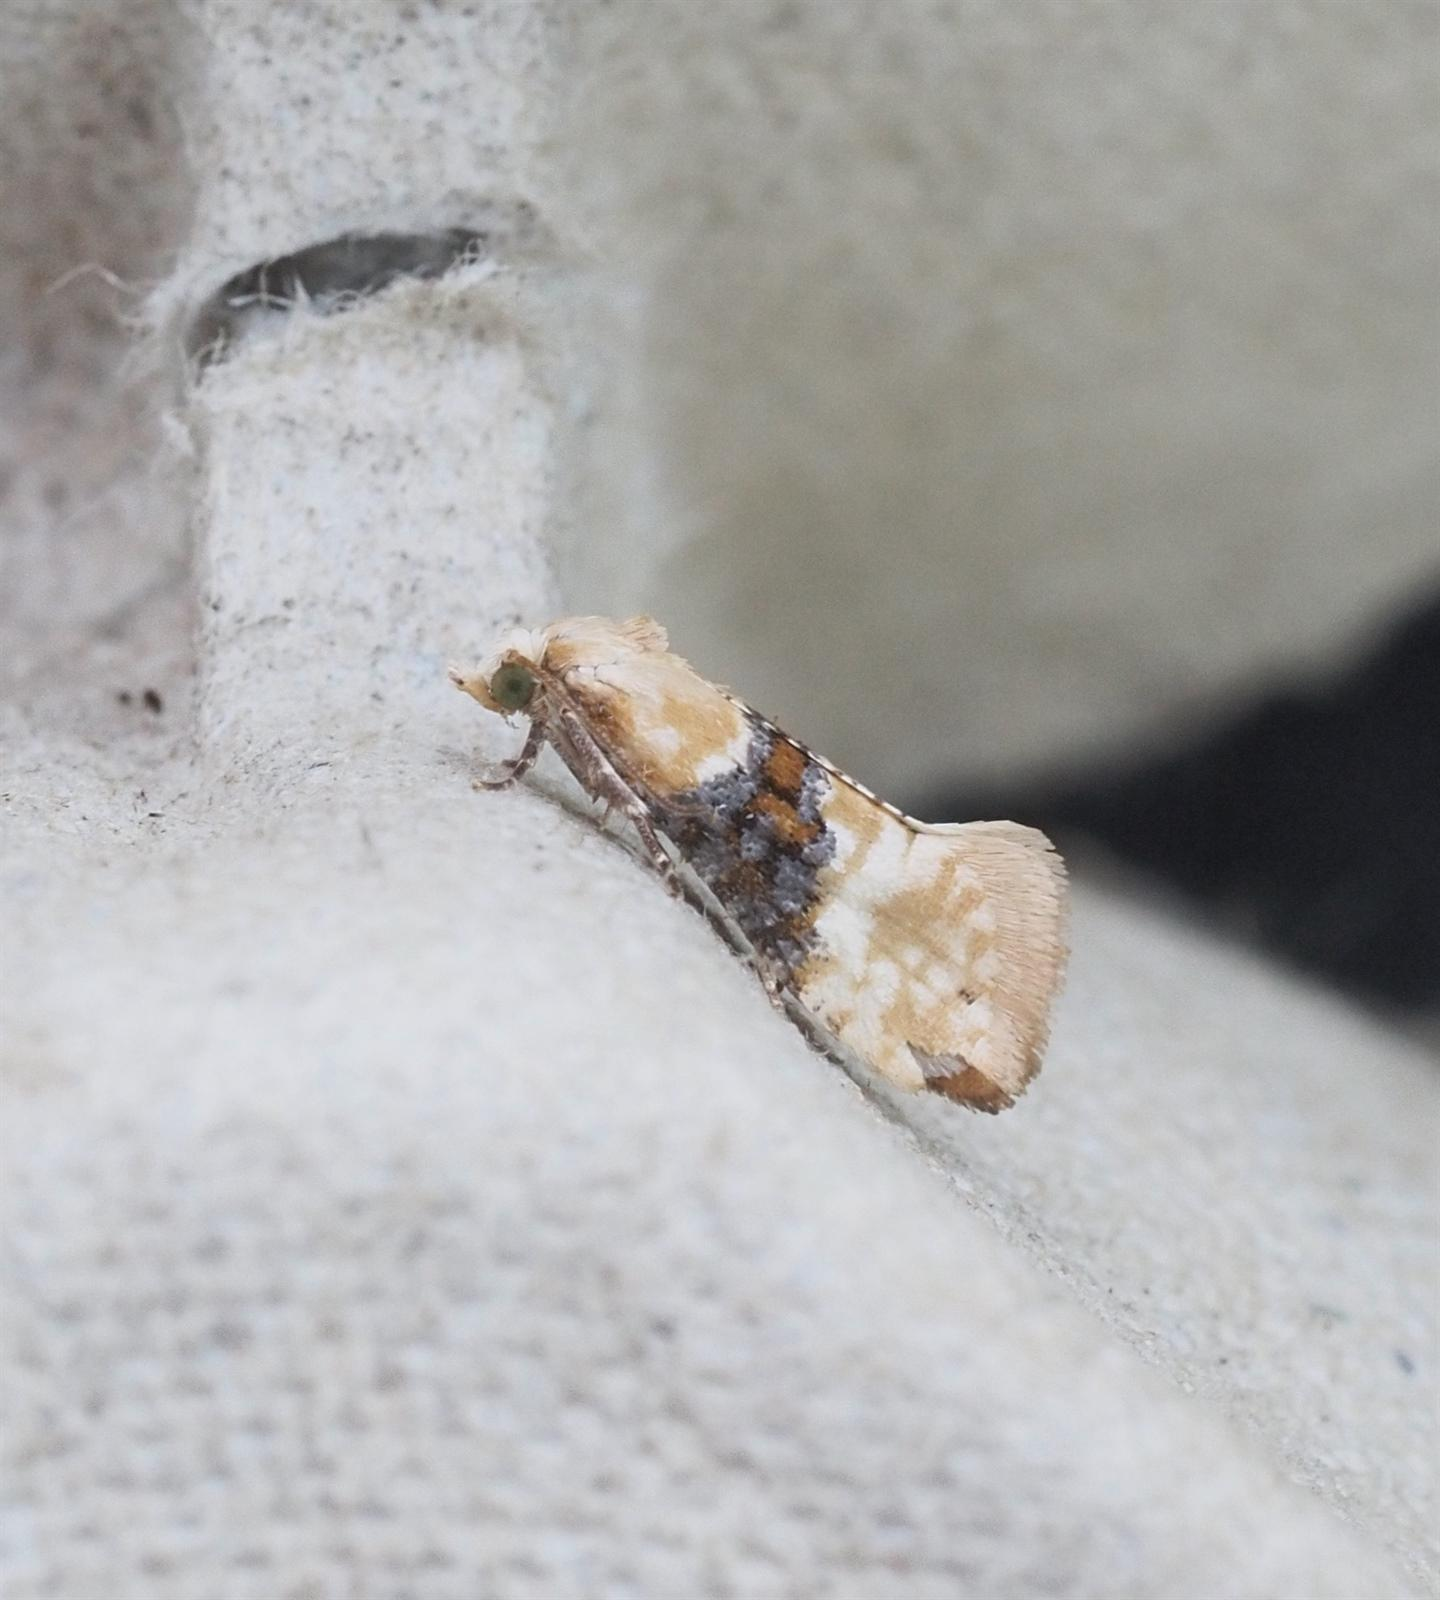Eupoecilia Ambiguella: (442, 605, 1079, 1125)
